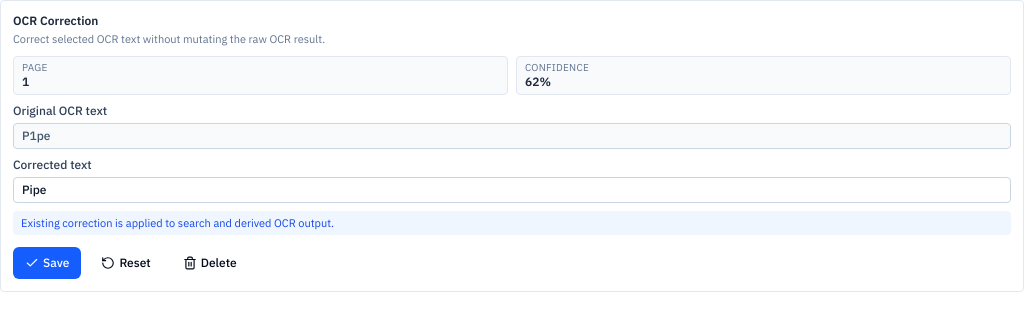
Test: OcrCorrectionPanel › detects existing correction and allows delete
The width and height of the screenshot is (1024, 309).
Expected: the text with test id "ocr-correction-existing" is shown, [13,211,1011,235]
Expected: the field with test id "ocr-correction-input" holds "Pipe", [13,177,1011,203]
Click the button with test id "ocr-correction-delete" at (210, 263), box [171,247,249,279]
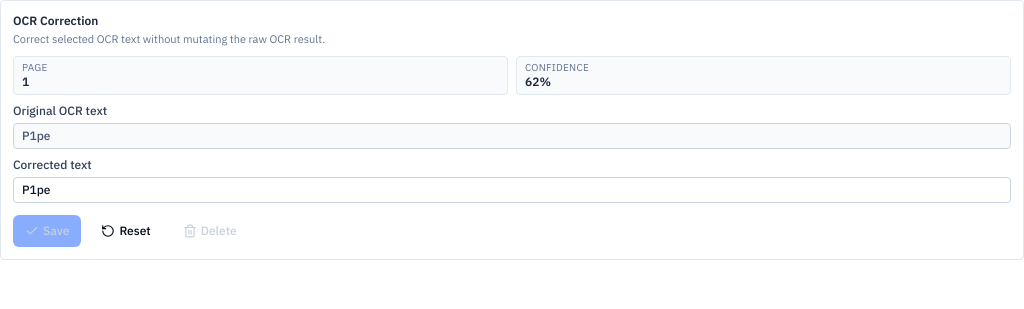
Expected: the field with test id "ocr-correction-input" holds "P1pe", [13,177,1011,203]
